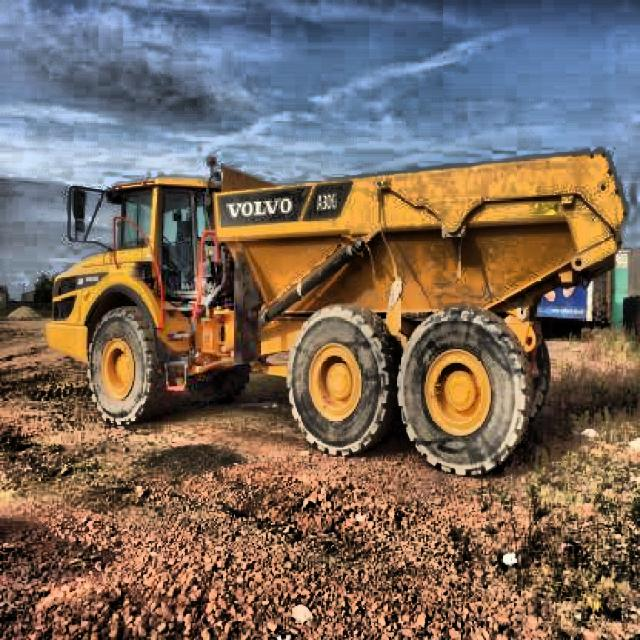dump_truck: (41, 154, 632, 477)
